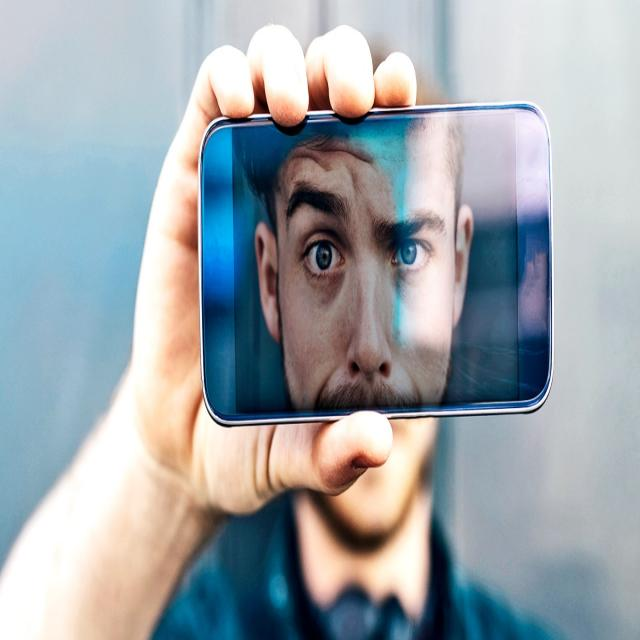device: (196, 97, 556, 429)
